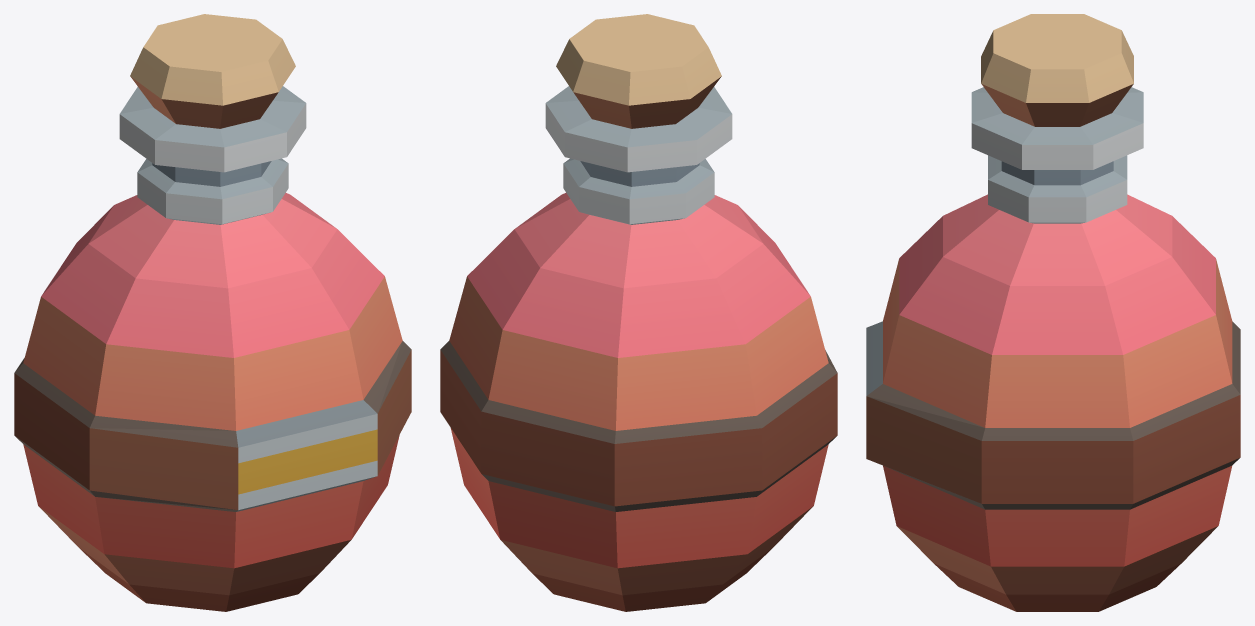
The model's file is potion_large_coral.glb.
The picture shows the model from 3 angles, left to right: view 1: azimuth 30°, elevation 25°; view 2: azimuth 150°, elevation 25°; view 3: azimuth 270°, elevation 25°; orthographic projection.
Parts seen in each view (by area): view 1: model; view 2: model; view 3: model.
Boxes of the visible parts, x1,y1,x2,y2 form: model: (14, 14, 411, 611); model: (440, 14, 837, 611); model: (866, 14, 1240, 611).
Bounding box in the file's own units: 0.72 × 1.12 × 0.72.
1 material, 1 textured.
